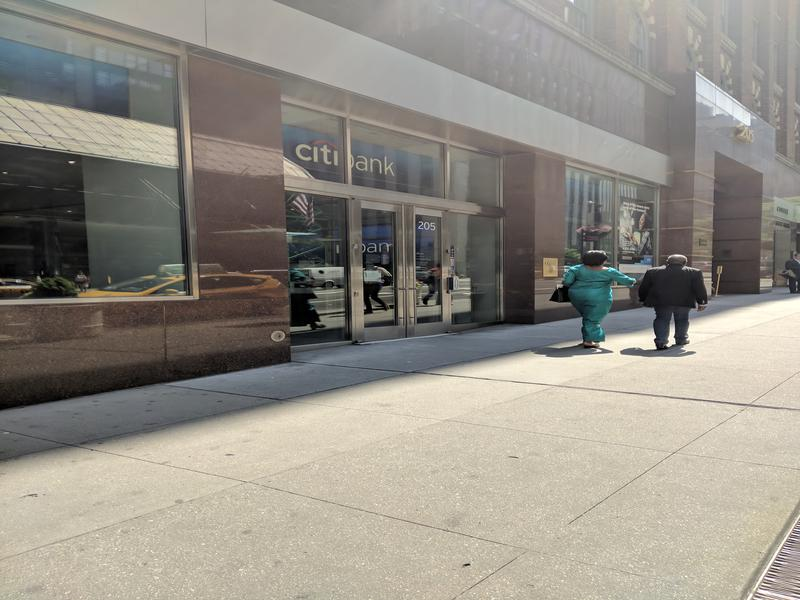double_door: (351, 189, 457, 341)
